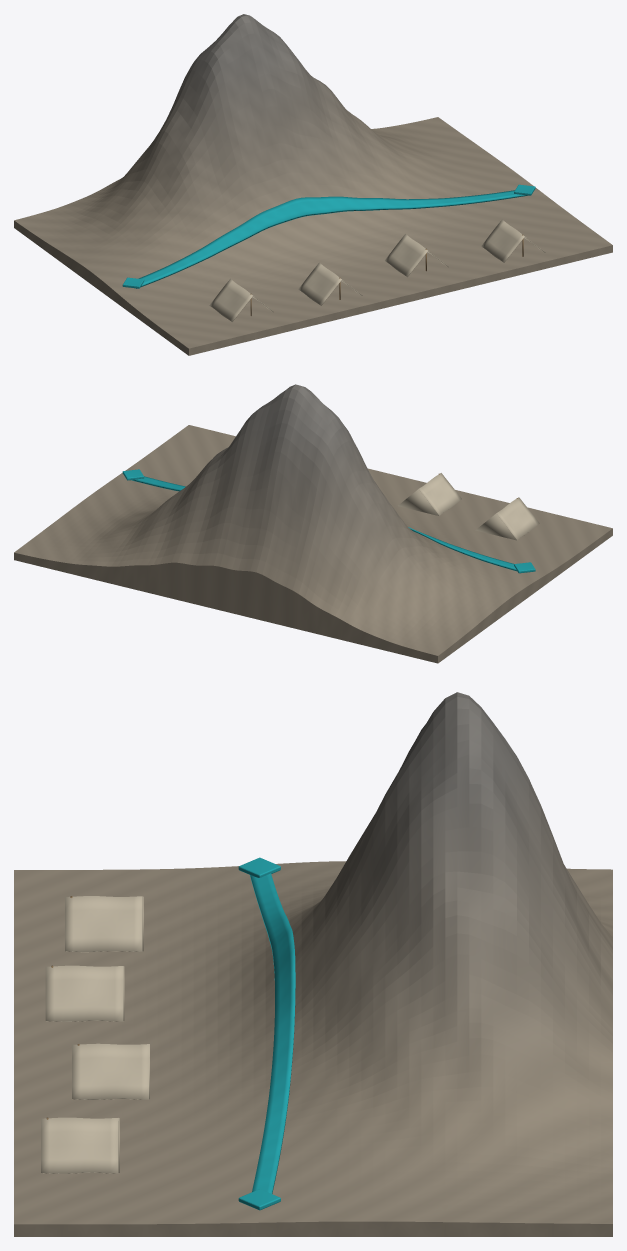
Rendered from sinai-boundary.glb.
The picture shows the model from 3 angles, top to bottom: view 1: azimuth 30°, elevation 25°; view 2: azimuth 150°, elevation 25°; view 3: azimuth 270°, elevation 25°; orthographic projection. The views are drawn at different scales.
Visible parts, largest first — view 1: sinai-boundary-sinai-original-space-map-ground, sinai-boundary-sinai-modern-teaching-guide-teal, sinai-boundary-sinai-schematic-camp-cloth; view 2: sinai-boundary-sinai-original-space-map-ground, sinai-boundary-sinai-schematic-camp-cloth, sinai-boundary-sinai-modern-teaching-guide-teal; view 3: sinai-boundary-sinai-original-space-map-ground, sinai-boundary-sinai-schematic-camp-cloth, sinai-boundary-sinai-modern-teaching-guide-teal.
Boxes of the visible parts, bbox=[...] form: sinai-boundary-sinai-original-space-map-ground: bbox=[14, 14, 612, 355]; sinai-boundary-sinai-modern-teaching-guide-teal: bbox=[122, 184, 535, 288]; sinai-boundary-sinai-schematic-camp-cloth: bbox=[209, 219, 545, 321]; sinai-boundary-sinai-original-space-map-ground: bbox=[14, 384, 612, 663]; sinai-boundary-sinai-schematic-camp-cloth: bbox=[398, 473, 539, 540]; sinai-boundary-sinai-modern-teaching-guide-teal: bbox=[122, 469, 535, 573]; sinai-boundary-sinai-original-space-map-ground: bbox=[14, 692, 612, 1236]; sinai-boundary-sinai-schematic-camp-cloth: bbox=[41, 896, 149, 1173]; sinai-boundary-sinai-modern-teaching-guide-teal: bbox=[238, 857, 295, 1210].
Size of the model in its own units: 1.4 by 0.6312 by 1.
